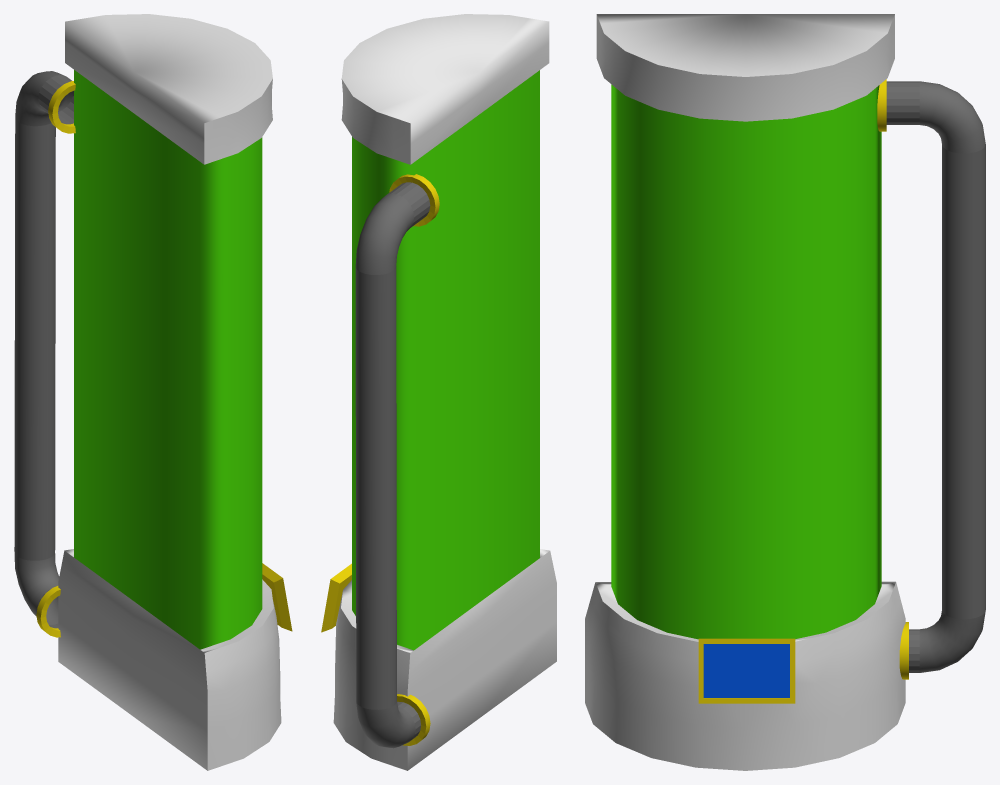
The model's file is display.fbx.
3 views of the same model, side by side, from view 1: azimuth 30°, elevation 25°; view 2: azimuth 150°, elevation 25°; view 3: azimuth 270°, elevation 25° (orthographic). The views are drawn at different scales.
Visible parts, largest first — view 1: polySurface1, polySurface2, pTorus2, pasted__pSphere1, polySurface4; view 2: polySurface1, polySurface2, pTorus2, pasted__pSphere1, polySurface4; view 3: polySurface1, polySurface2, pTorus2, polySurface3, polySurface4, pasted__pSphere1.
Boxes of the visible parts, <box> form: polySurface1: <box>74,70,262,649</box>; polySurface2: <box>58,14,281,770</box>; pTorus2: <box>14,71,73,628</box>; pasted__pSphere1: <box>36,81,75,637</box>; polySurface4: <box>262,563,292,631</box>; polySurface1: <box>352,70,539,650</box>; polySurface2: <box>333,14,556,770</box>; pTorus2: <box>355,182,430,748</box>; pasted__pSphere1: <box>389,174,439,745</box>; polySurface4: <box>321,563,351,632</box>; polySurface1: <box>611,84,881,639</box>; polySurface2: <box>585,14,905,770</box>; pTorus2: <box>886,81,985,672</box>; polySurface3: <box>703,644,789,697</box>; polySurface4: <box>698,638,795,703</box>; pasted__pSphere1: <box>877,79,908,679</box>.
Size of the model in its own units: 111 by 432 by 227.
